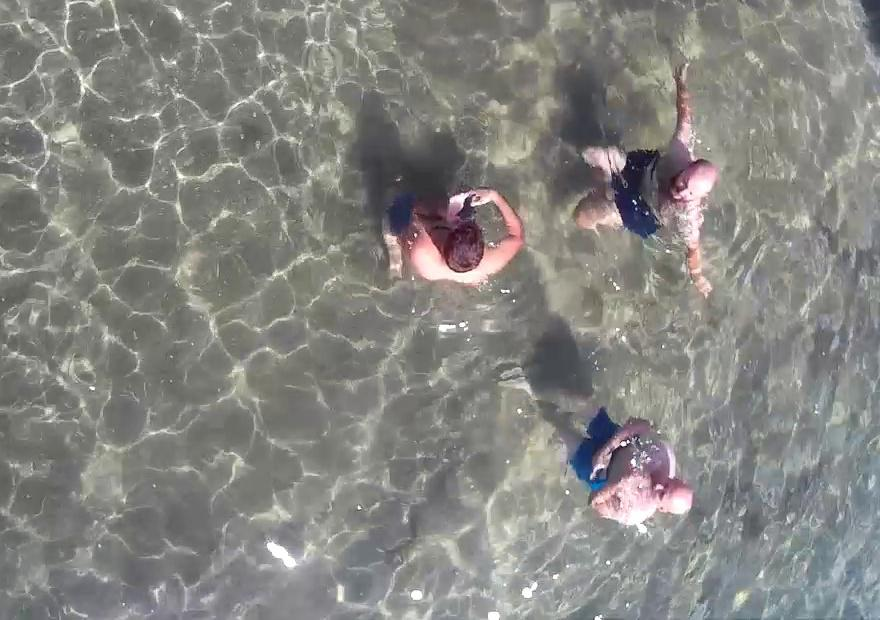human: (576, 28, 718, 320), (552, 384, 694, 543), (371, 162, 533, 301)
